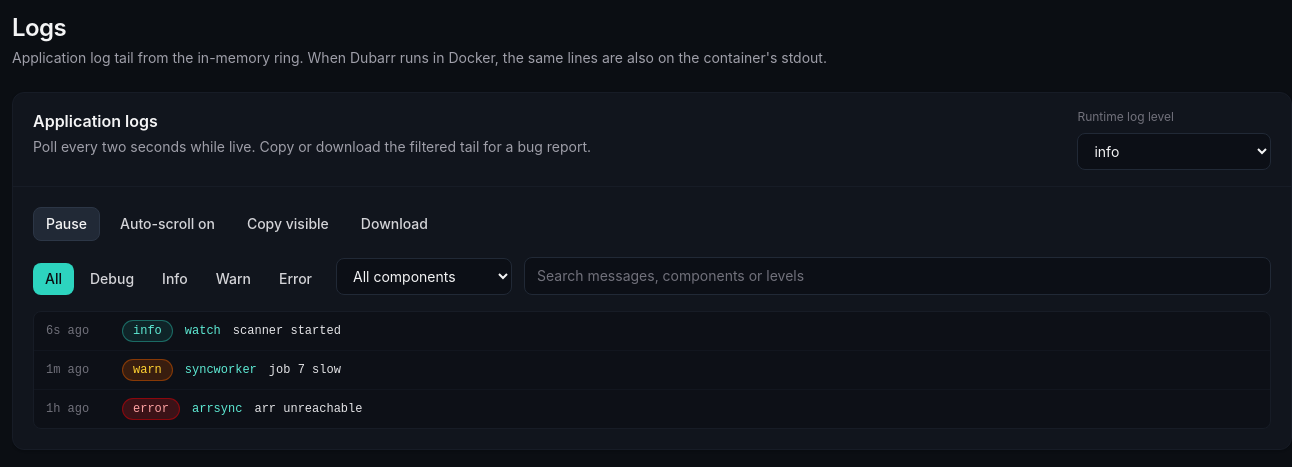
Test: logs page › filters by text search
Expected: the text "scanner started" is shown, [233,324,341,338]
Type "arr" into the field labelled "Search messages, components or levels" at (898, 276), box [524,257,1271,295]
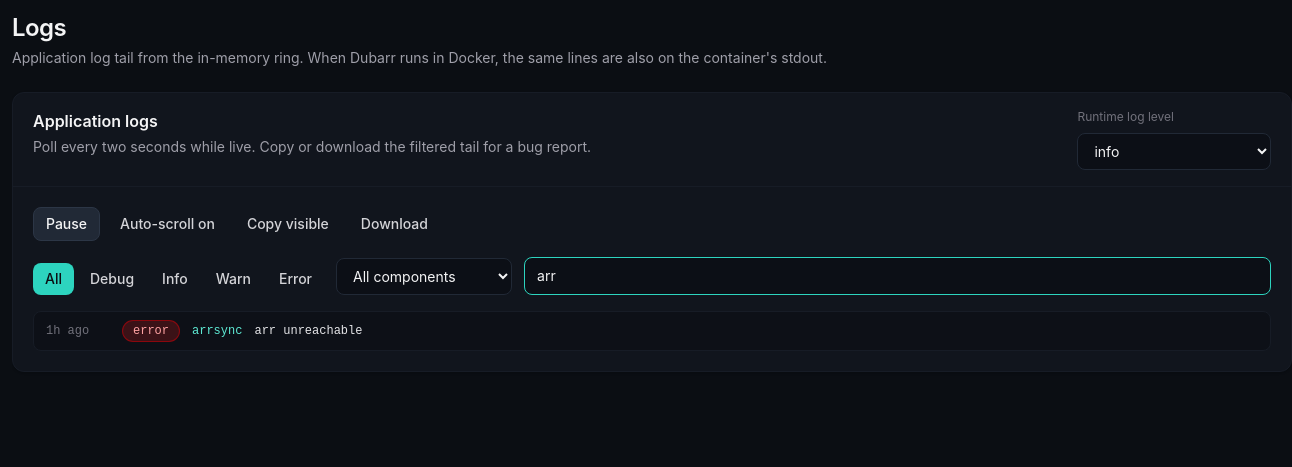
Expected: the text "arr unreachable" is shown, [254,324,362,338]
Now the text "scanner started" is gone
